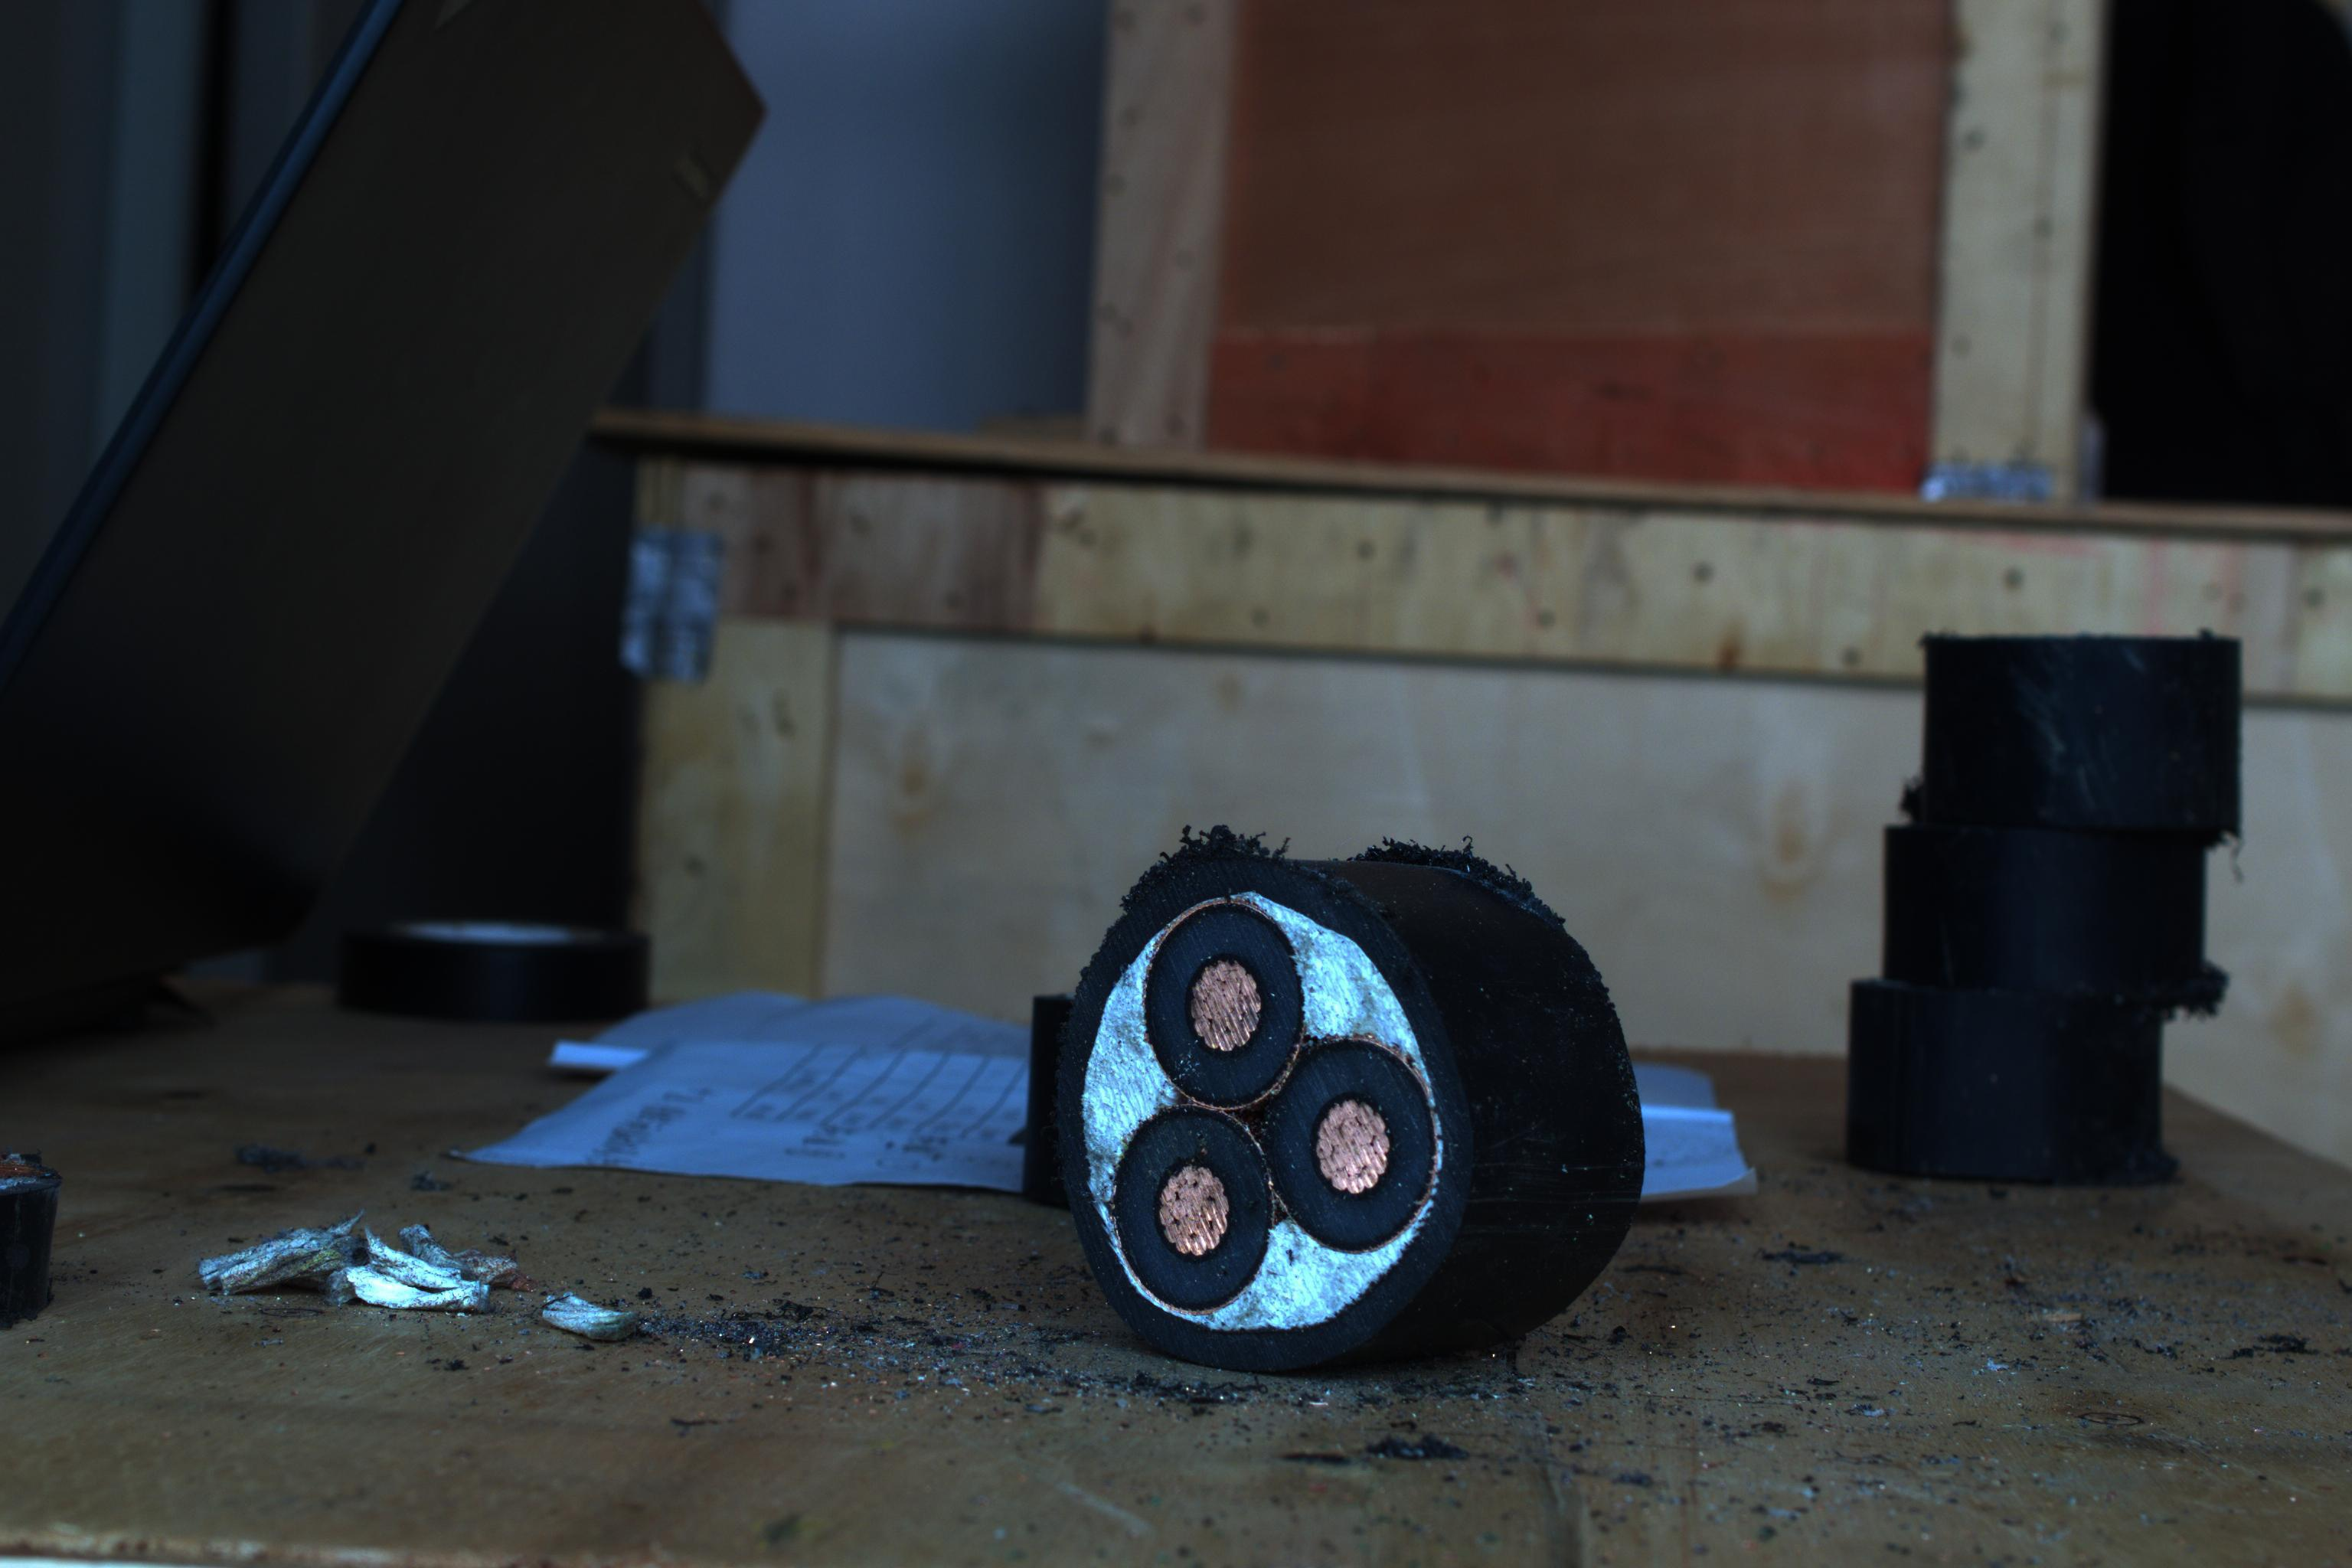YJV_8.7_10kV_3x70: (1011, 840, 1458, 1335)
